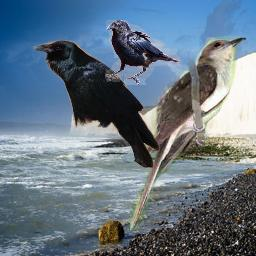Crow: (33, 40, 160, 169), (105, 20, 180, 85)
Cuckoo: (130, 36, 246, 232)
